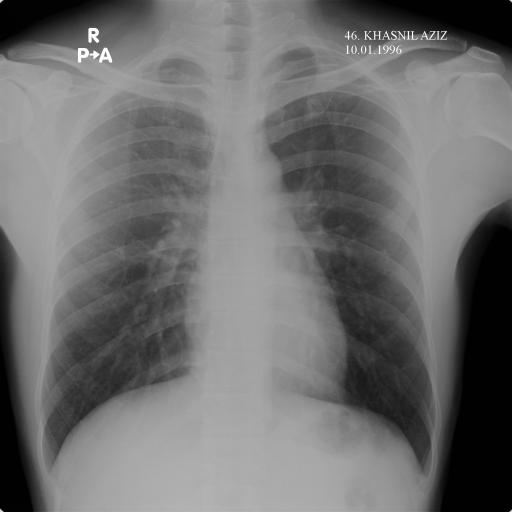normal: (22, 26, 442, 494)
